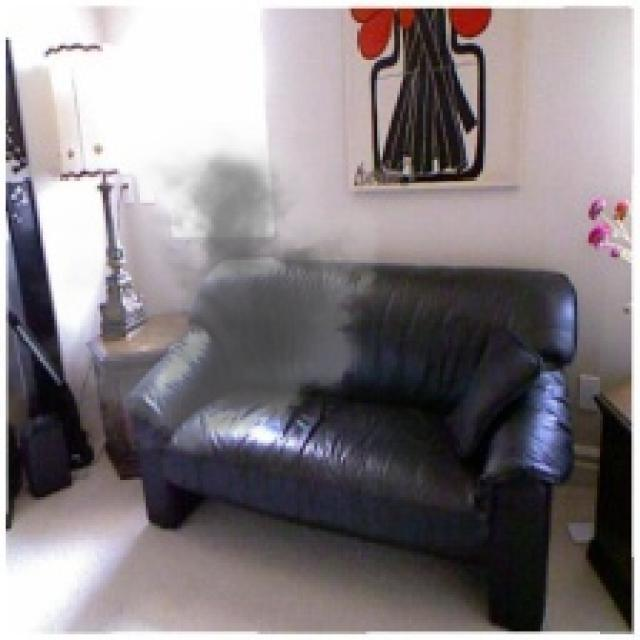Smoke: (26, 122, 397, 472)
